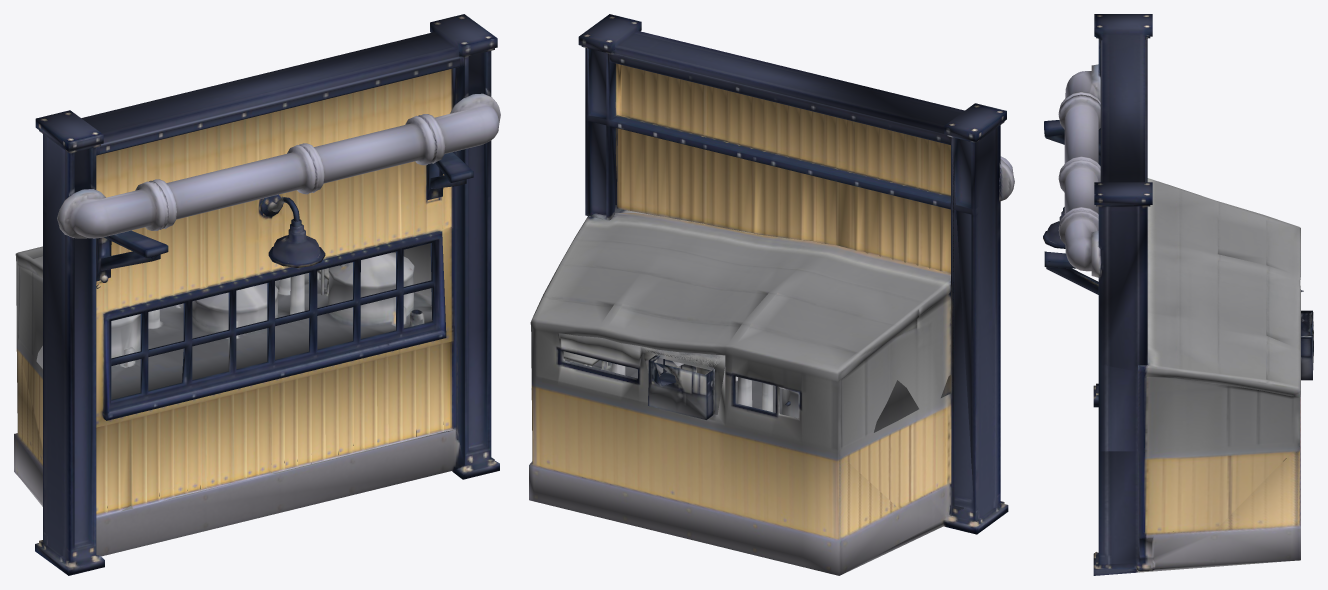
The model's file is wall_section.glb.
The picture shows the model from 3 angles, left to right: view 1: azimuth 30°, elevation 25°; view 2: azimuth 150°, elevation 25°; view 3: azimuth 270°, elevation 25°; orthographic projection. The views are drawn at different scales.
Parts seen in each view (by area): view 1: tripo_node_7101d9a3-5325-457d-b3f3-a39b370e0378; view 2: tripo_node_7101d9a3-5325-457d-b3f3-a39b370e0378; view 3: tripo_node_7101d9a3-5325-457d-b3f3-a39b370e0378.
Boxes of the visible parts, bbox=[...] form: tripo_node_7101d9a3-5325-457d-b3f3-a39b370e0378: bbox=[14, 14, 500, 575]; tripo_node_7101d9a3-5325-457d-b3f3-a39b370e0378: bbox=[529, 14, 1014, 575]; tripo_node_7101d9a3-5325-457d-b3f3-a39b370e0378: bbox=[1043, 14, 1313, 575].
Bounding box in the file's own units: 0.978 × 0.9167 × 0.5952.
Materials: 1 (1 with a texture image).
